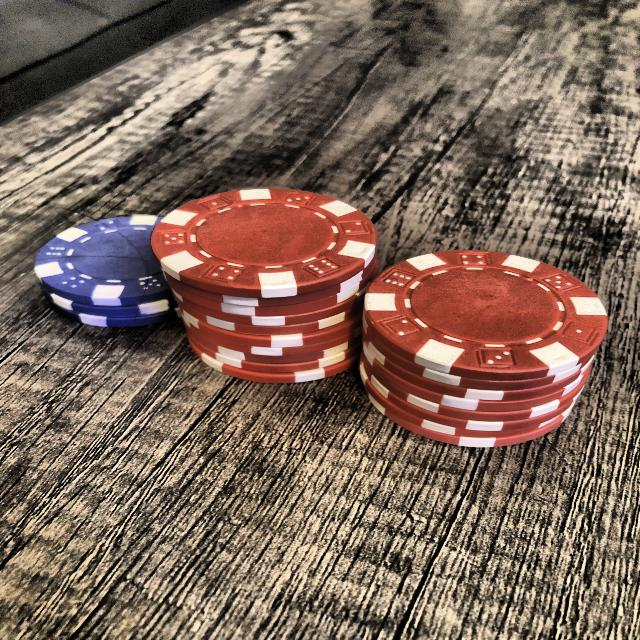Chip: (356, 247, 610, 449), (150, 186, 379, 385), (32, 210, 210, 331)
